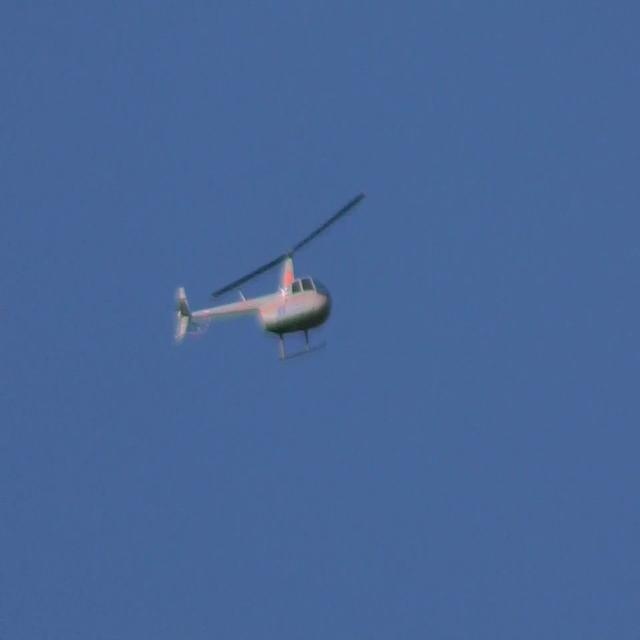CIV_HELO: (175, 246, 333, 364)
